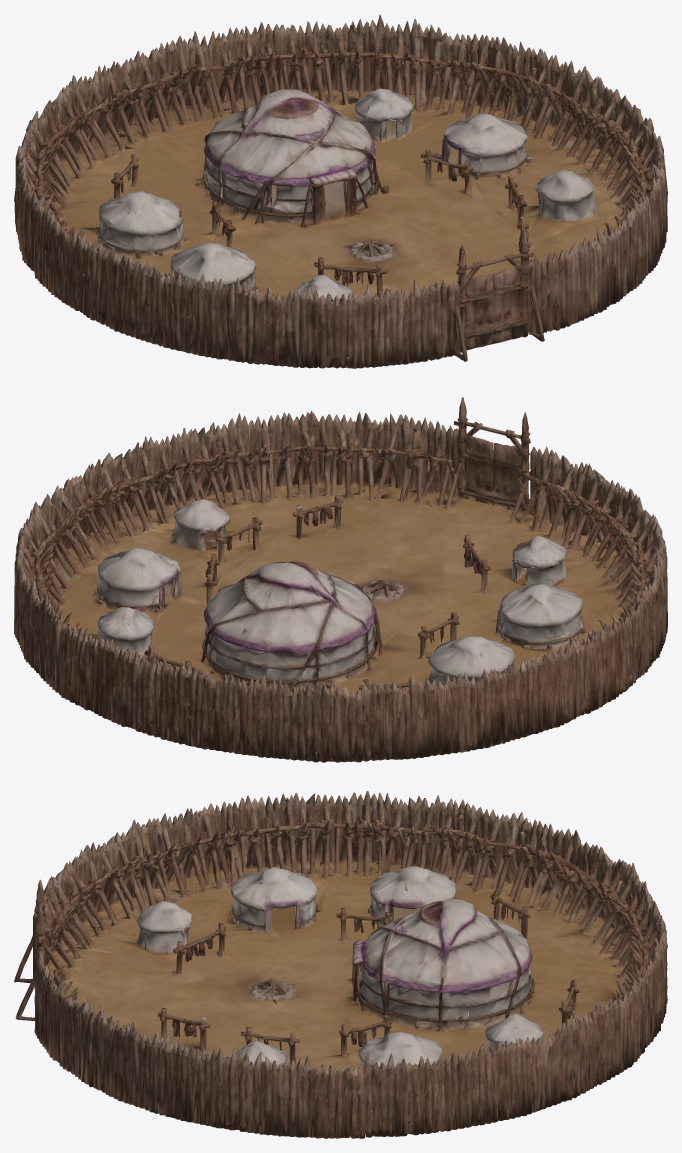
File: Village_Huns_S.glb
3 views of the same model, one above another, from view 1: azimuth 30°, elevation 25°; view 2: azimuth 150°, elevation 25°; view 3: azimuth 270°, elevation 25° (orthographic).
Parts seen in each view (by area): view 1: Mesh_0; view 2: Mesh_0; view 3: Mesh_0.
Boxes of the visible parts, box(x1,y1,x2,y2) form: Mesh_0: box(14, 14, 667, 368); Mesh_0: box(14, 397, 667, 762); Mesh_0: box(14, 791, 667, 1138).
Size of the model in its own units: 1.89 by 0.3468 by 1.91.
1 material, 1 textured.
